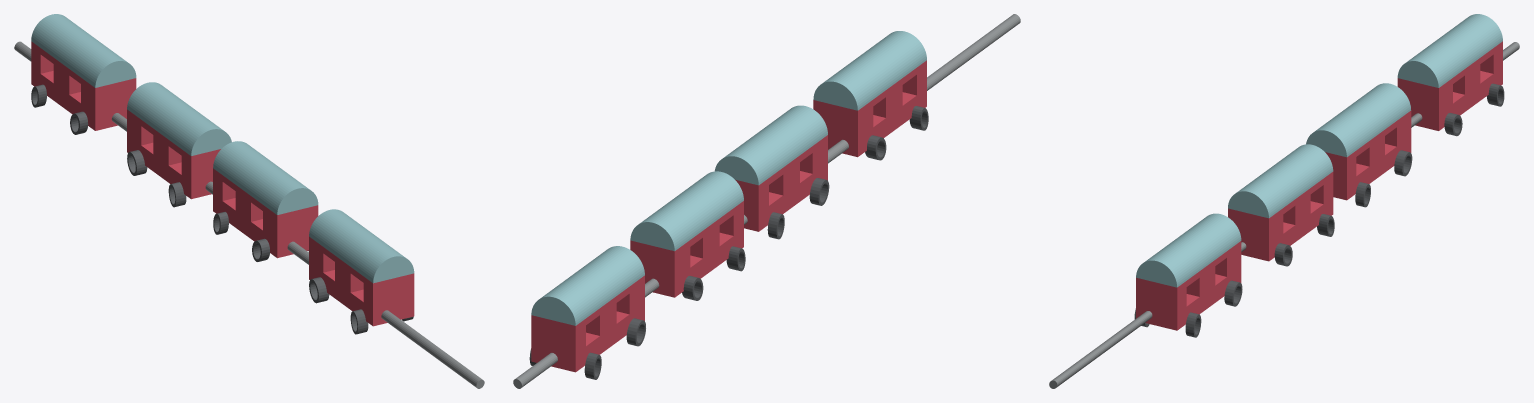
File: Brave Albar-Lappi.glb
3 views of the same model, side by side, from view 1: azimuth 30°, elevation 25°; view 2: azimuth 150°, elevation 25°; view 3: azimuth 330°, elevation 25° (orthographic). The views are drawn at different scales.
Visible parts, largest first — view 1: Mesh_Mesh_head_geo.001_lambert2SG.001; view 2: Mesh_Mesh_head_geo.001_lambert2SG.001; view 3: Mesh_Mesh_head_geo.001_lambert2SG.001.
Boxes of the visible parts, x1,y1,x2,y2 form: Mesh_Mesh_head_geo.001_lambert2SG.001: (14, 14, 484, 388); Mesh_Mesh_head_geo.001_lambert2SG.001: (513, 14, 1020, 388); Mesh_Mesh_head_geo.001_lambert2SG.001: (1049, 14, 1519, 388).
Size of the model in its own units: 32 by 36 by 389.
